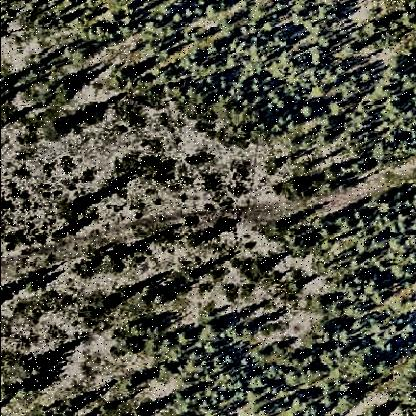tree-top: (44, 118, 70, 146), (12, 355, 40, 381), (99, 250, 125, 276), (54, 79, 78, 103), (172, 391, 195, 416), (111, 68, 134, 92), (121, 374, 143, 397), (337, 392, 359, 415), (202, 322, 224, 344), (318, 347, 339, 370), (313, 293, 335, 314), (325, 301, 347, 322), (292, 235, 313, 256), (333, 327, 355, 347), (288, 177, 308, 198), (63, 201, 83, 221), (327, 99, 347, 119), (253, 257, 273, 277), (220, 18, 240, 38), (245, 374, 267, 392), (189, 232, 209, 251), (375, 356, 394, 376), (205, 1, 225, 20), (238, 324, 255, 346), (325, 162, 343, 182), (284, 370, 304, 388), (319, 128, 336, 149), (174, 330, 193, 348), (375, 198, 394, 216), (159, 364, 177, 382), (358, 68, 376, 86), (344, 44, 362, 62), (24, 278, 43, 295), (116, 287, 133, 305), (392, 403, 415, 416), (1, 385, 15, 406), (260, 19, 277, 36), (368, 20, 384, 38), (290, 276, 306, 294), (370, 292, 388, 308), (1, 285, 15, 305), (149, 294, 169, 308), (73, 50, 87, 70), (300, 105, 317, 121), (401, 323, 416, 341), (293, 1, 311, 15), (266, 159, 281, 175), (343, 219, 355, 235), (319, 40, 333, 53), (404, 1, 416, 12), (275, 100, 287, 111)
